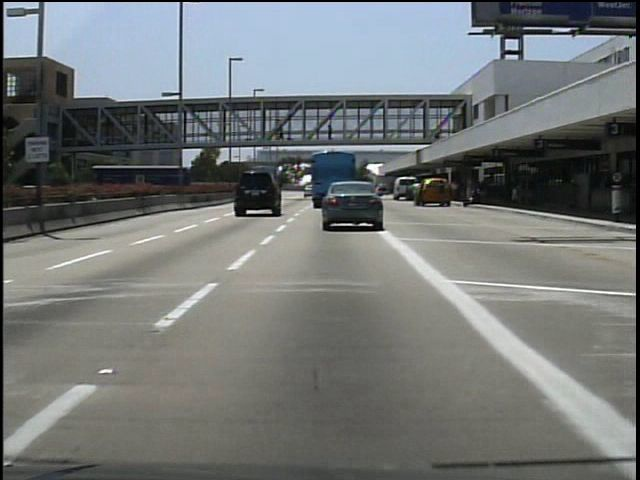person: (433, 176, 450, 211), (407, 179, 425, 209), (324, 121, 338, 148), (276, 119, 290, 141)
